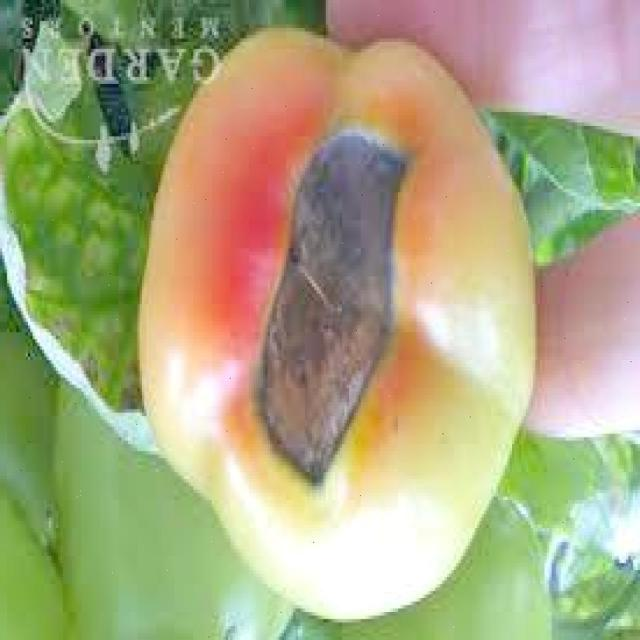Blossom End Rot Fruit: (173, 78, 277, 332)
